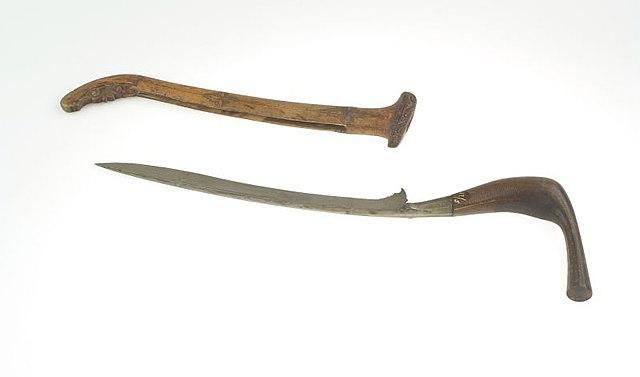facao: (97, 163, 591, 301)
